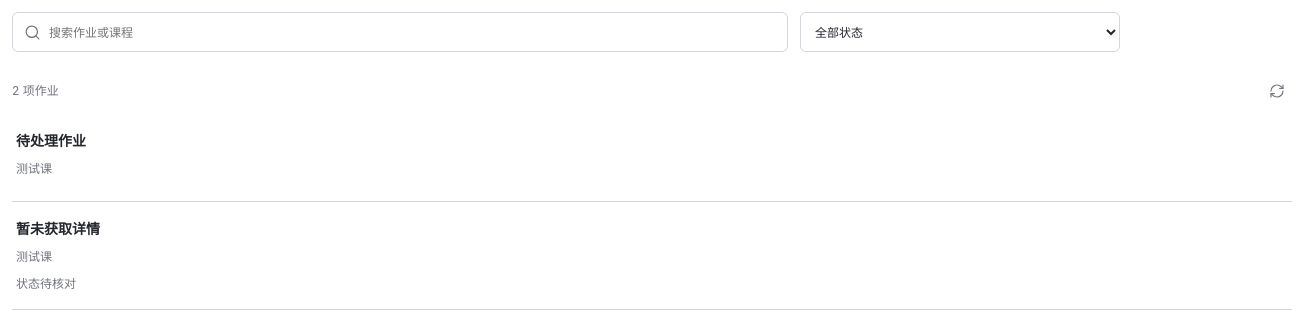
it: keeps missing submission data out of the pending-work filter
Expected: the button "待处理作业 测试课" is shown, [12,114,1292,202]
Select "待处理" in the dropdown named "作业状态". click: (960, 32)
box: [800,12,1120,52]
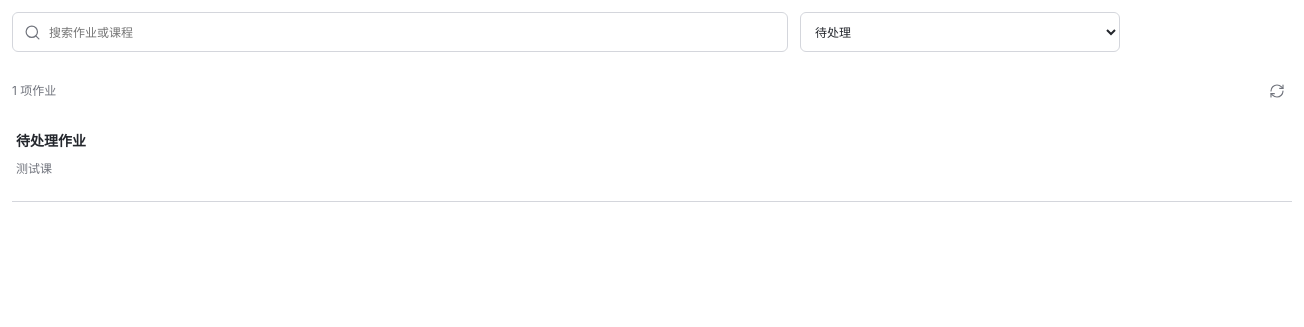
Now the button "暂未获取详情" is gone
Select "状态待核对" in the dropdown named "作业状态". click: (960, 32)
box: [800,12,1120,52]
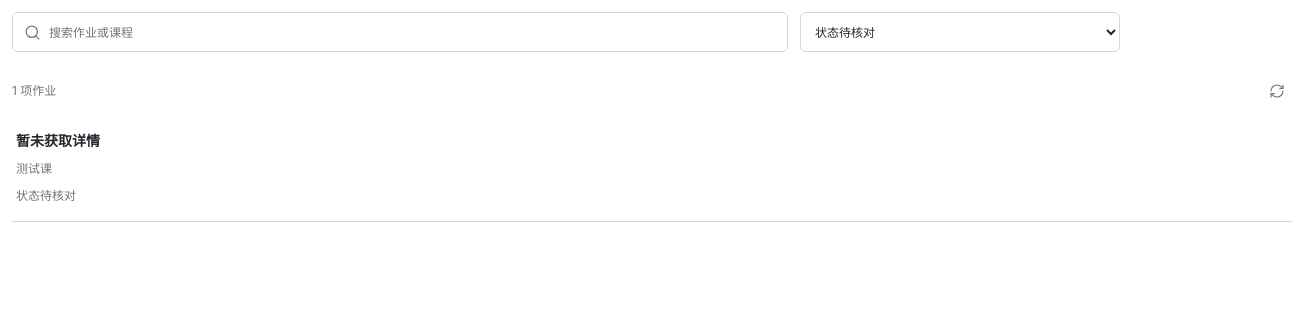
Now the button "暂未获取详情 测试课 状态待核对" is shown, box [12,114,1292,222]
